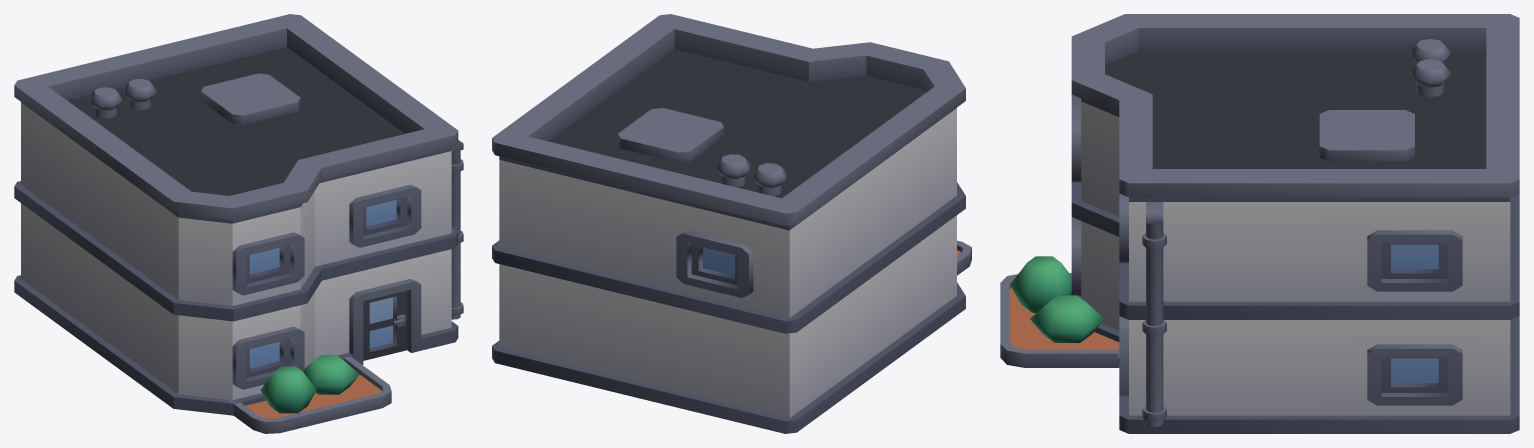
Rendered from shopC.glb.
3 renders of one model, left to right at view 1: azimuth 30°, elevation 25°; view 2: azimuth 150°, elevation 25°; view 3: azimuth 270°, elevation 25°, orthographic. The views are drawn at different scales.
Visible parts, largest first — view 1: shopC; view 2: shopC; view 3: shopC.
Boxes of the visible parts, <box> form: shopC: <box>14,14,463,433</box>; shopC: <box>492,14,971,433</box>; shopC: <box>1000,14,1519,433</box>.
Size of the model in its own units: 12 by 8 by 14.8.
